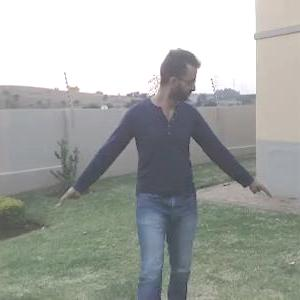land: (35, 33, 273, 298)
